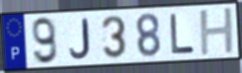3: (100, 14, 128, 60)
8: (134, 12, 163, 59)
9: (30, 16, 60, 65)
H: (198, 5, 237, 58)
J: (68, 17, 92, 60)
L: (168, 12, 197, 56)
